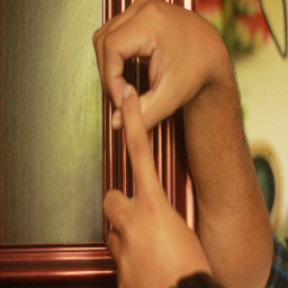Q: (92, 1, 225, 264)
